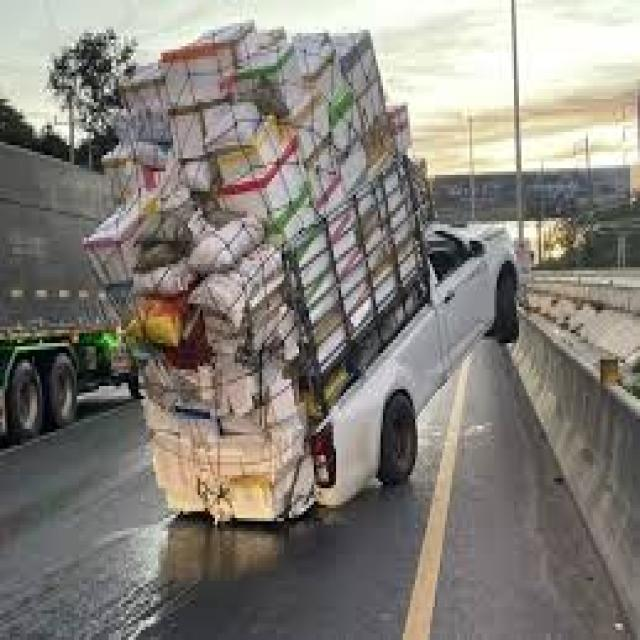uncovered: (114, 23, 528, 534)
